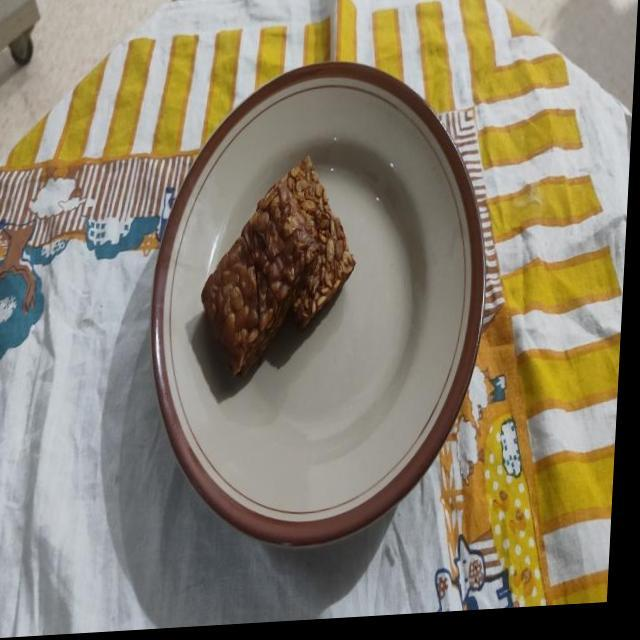tempe_goreng: (200, 185, 321, 382), (266, 156, 356, 328)
